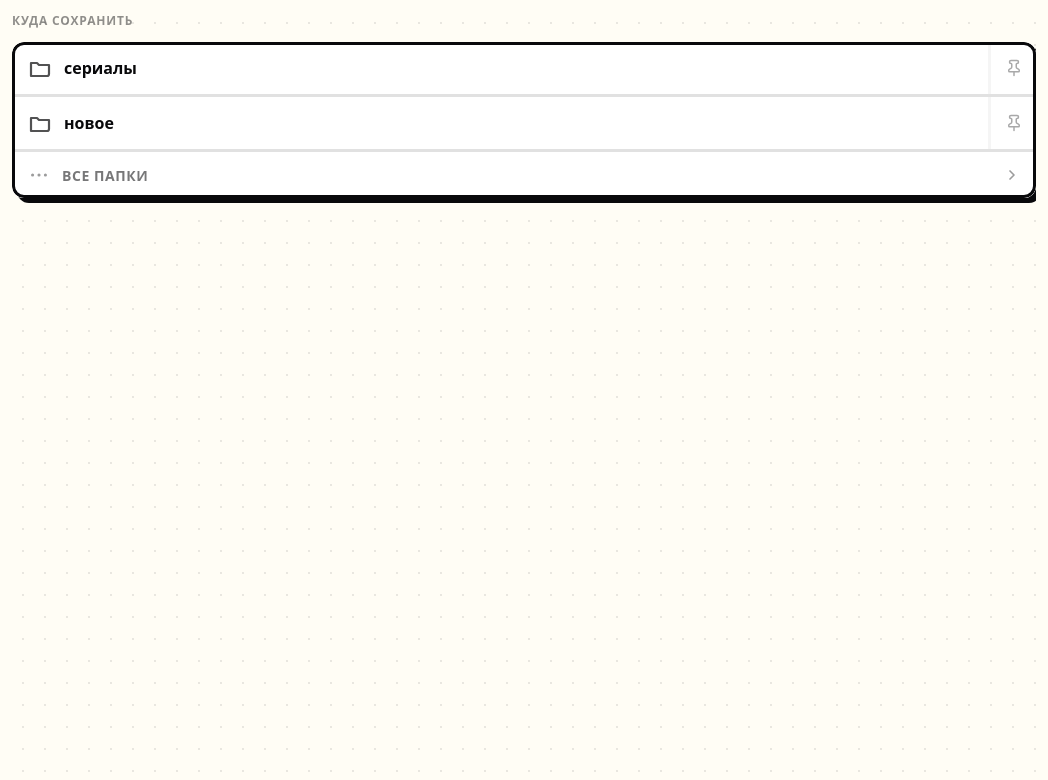
Test: FolderPicker — browse tree (#2) › drills into a folder, showing children and a breadcrumb crumb
Step 1. Click the button with test id "open-tree-btn" → (105, 176), box [12,149,1036,198]
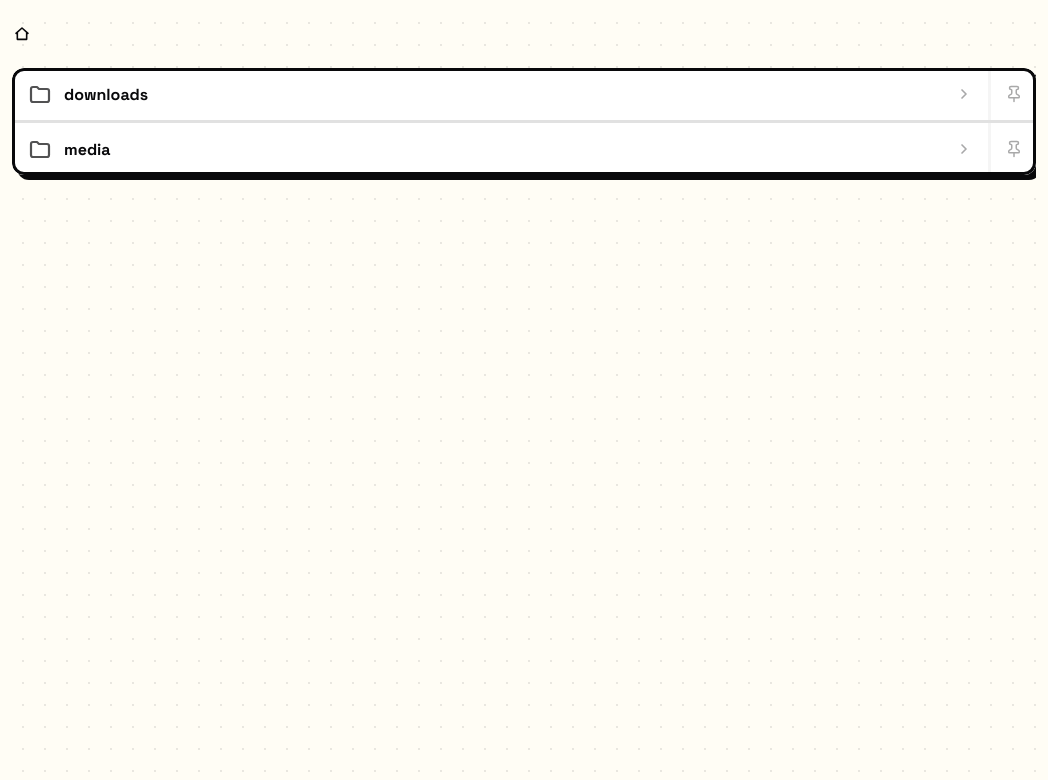
Step 2. Click the button with test id "folder-item" showing "downloads" → (106, 94), box [12,68,988,120]
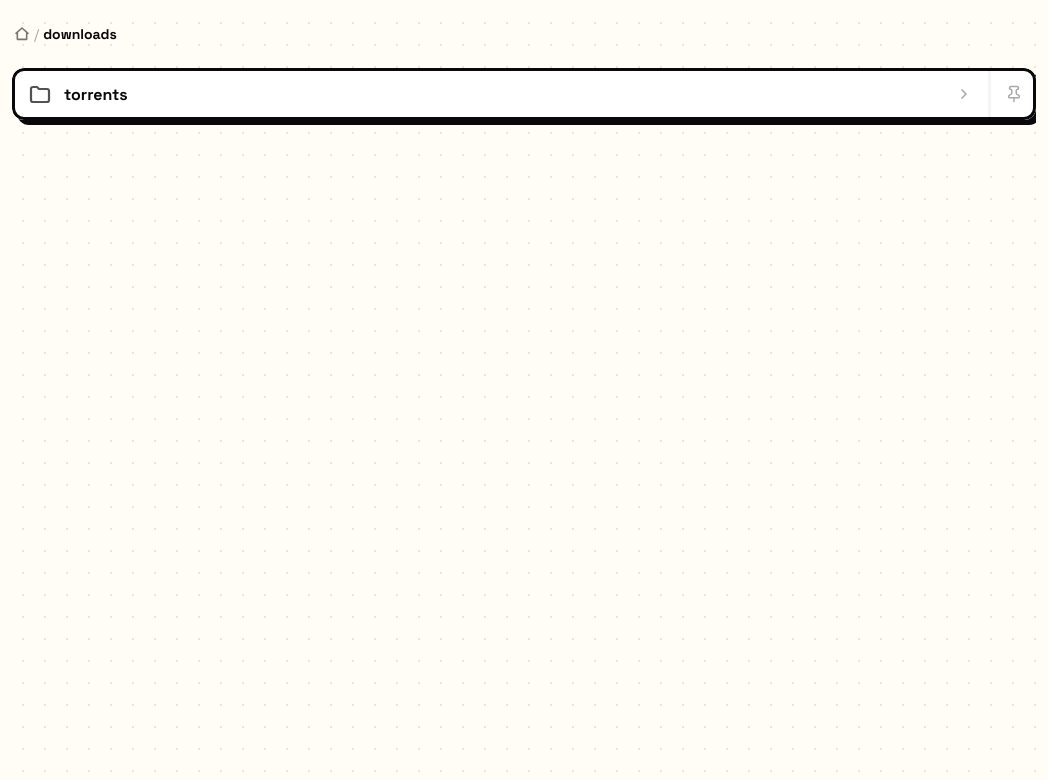
Result: the button with test id "crumb" showing "downloads" is shown at [41,21,119,47]
Result: the text "torrents" is shown at [64,84,128,104]
